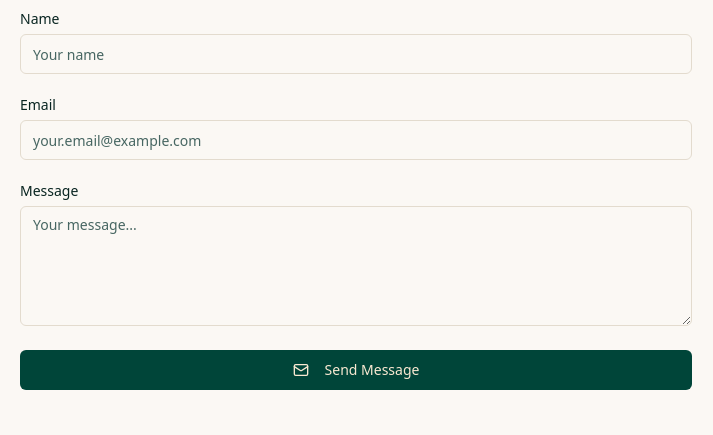
it: ContactForm › should display validation error for invalid email
The width and height of the screenshot is (713, 435).
// Fill in other required fields first
In the field labelled "Name": [356, 54] box [20,34,692,74], type "John Doe"
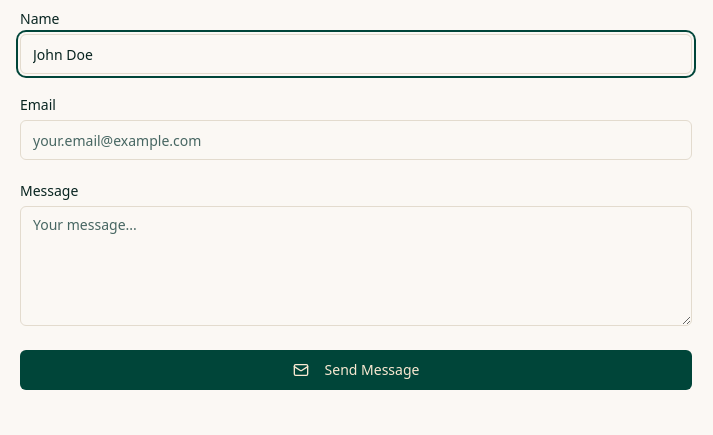
In the field labelled "Email": [356, 140] box [20,120,692,160], type "a@b"
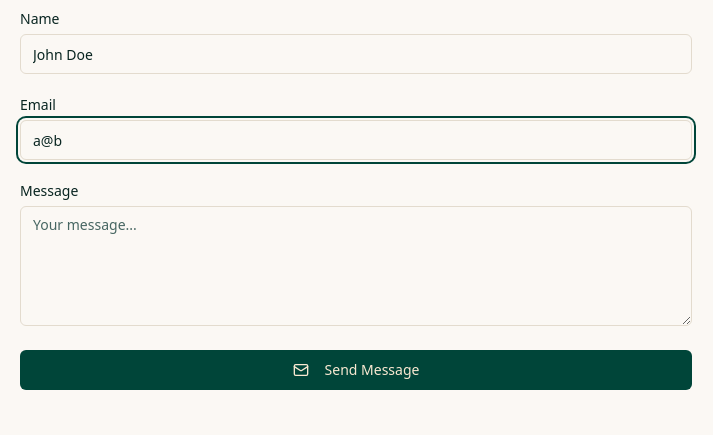
In the text box labelled "Message": [356, 266] box [20,206,692,326], type "This is a valid message with enough characters"
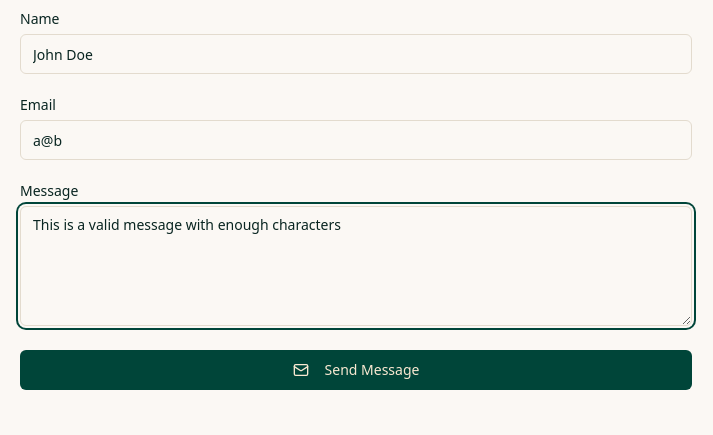
Click the button "Send Message": [356, 370] box [20,350,692,390]
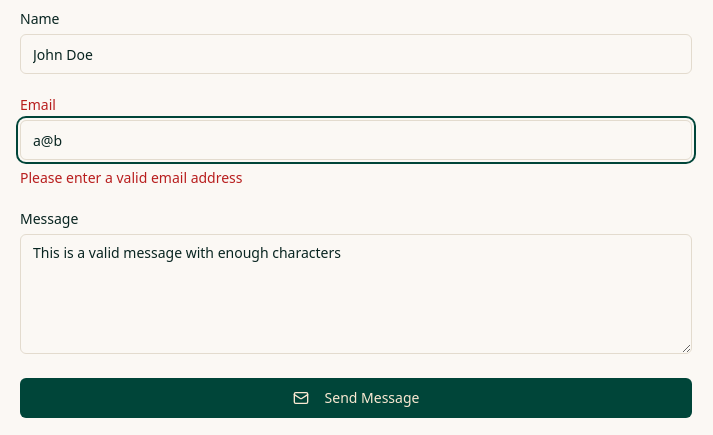
Check: the text "Please enter a valid email address" is shown, box [20,168,242,187]
